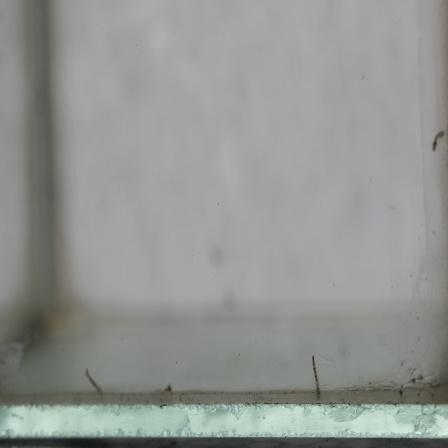Jentik-Nyamuk: (308, 351, 326, 400), (428, 126, 448, 155)
